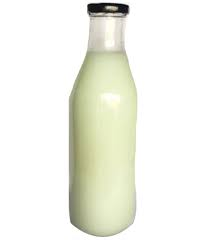milk: (70, 2, 144, 237)
